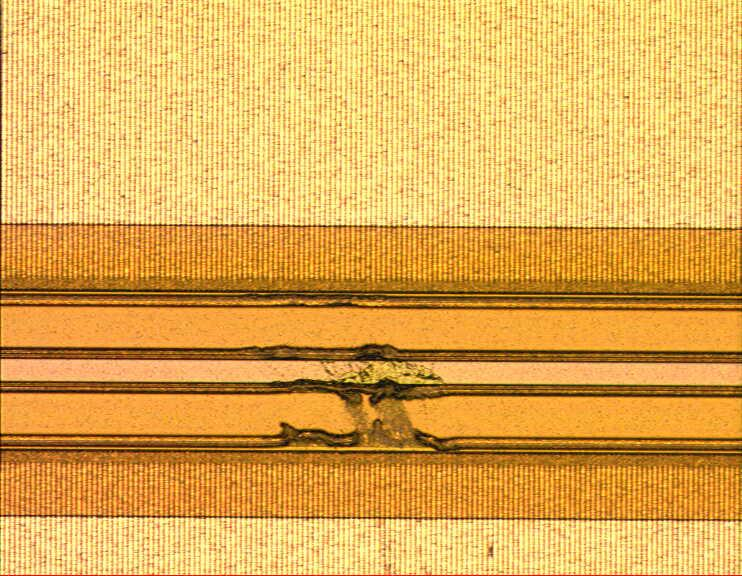SCRATCH: (238, 273, 540, 576)
